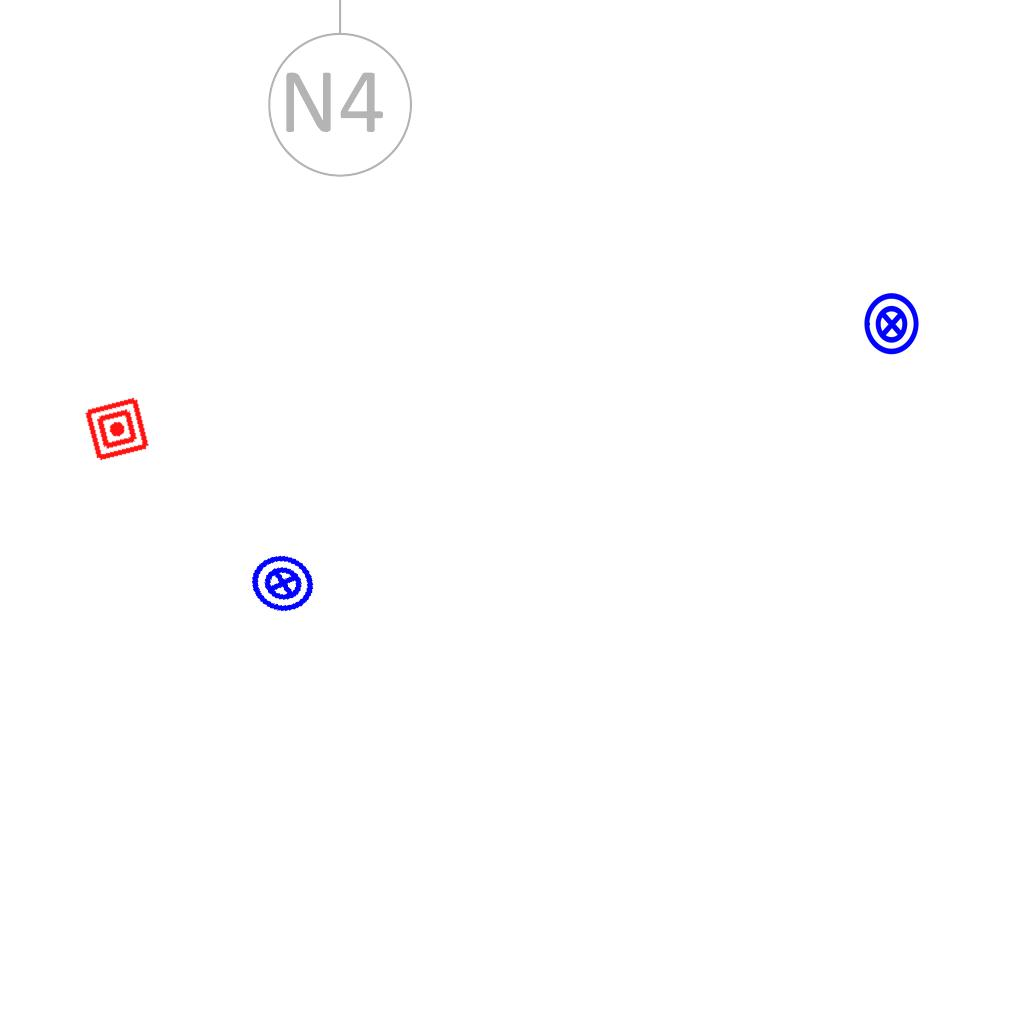NAM-Nichtautomatischer_Melder: (83, 395, 151, 463)
Taster_beleuchtet: (242, 542, 324, 624), (859, 291, 925, 357)
